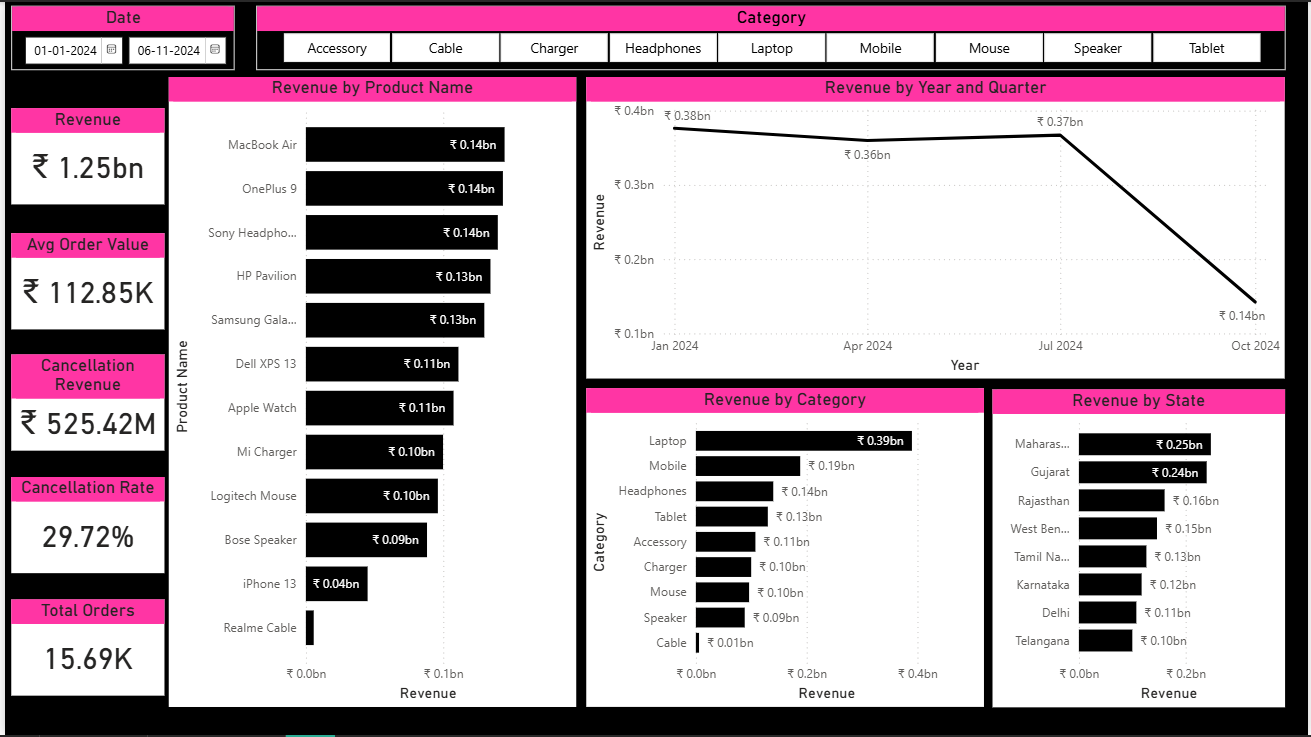

The dashboard page shown, as its layout file describes it:
{"tool":"powerbi","page":{"name":"Page 1","canvas":[1280,720],"ordinal":0},"visuals":[{"type":"shape","box":[0,0,1280.3,72.9],"z":0},{"type":"shape","box":[0,0,160.5,720.3],"z":1000},{"type":"barChart","fields":{"Category":["Products.Product Name"],"Y":["Key Measures.Revenue"]},"box":[160.7,73.6,400,618.4],"z":2000},{"type":"barChart","fields":{"Category":["Products.Category"],"Y":["Key Measures.Revenue"]},"box":[570.6,379.1,390.2,312.9],"z":3000},{"type":"lineChart","fields":{"Category":["Orders.Date and time of purchase.Variation.Date Hierarchy.Year","Orders.Date and time of purchase.Variation.Date Hierarchy.Quarter","Orders.Date and time of purchase.Variation.Date Hierarchy.Month","Orders.Date and time of purchase.Variation.Date Hierarchy.Day"],"Y":["Key Measures.Revenue"]},"box":[570.6,73.6,685.9,295.7],"z":4000},{"type":"barChart","fields":{"Category":["Customers.State"],"Y":["Key Measures.Revenue"]},"box":[969.3,380.4,287.1,311.7],"z":5000},{"type":"slicer","title":"Category","fields":{"Values":["Products.Category"]},"box":[246.3,3.7,1010.1,63.4],"z":6000},{"type":"card","title":"Revenue","fields":{"Values":["Key Measures.Revenue"]},"box":[6.2,104.5,150.5,94.5],"z":7000},{"type":"card","title":"Avg Order Value","fields":{"Values":["Key Measures.AOV"]},"box":[6.2,226.4,150.5,94.5],"z":8000},{"type":"card","title":"Cancellation Revenue","fields":{"Values":["Key Measures.Cancelled_rev"]},"box":[6.2,345.8,150.5,94.5],"z":9000},{"type":"card","title":"Cancellation Rate","fields":{"Values":["Key Measures.Cancellation Rate"]},"box":[6.2,466.5,150.5,94.5],"z":10000},{"type":"card","title":"Total Orders","fields":{"Values":["CountNonNull(Orders.OrderID)"]},"box":[6.2,585.9,150.5,94.5],"z":11000},{"type":"slicer","title":"Date","fields":{"Values":["Orders.Date and time of purchase"]},"box":[6.2,3.7,218.9,63.4],"z":12000}]}

Visuals, with their boxes in screenshot pixels (x1, y1, x2, y2), scaled from the page's 1280x720 canvas onto the 1311x737 screenshot:
shape: 0:0:1310:75
shape: 0:0:164:736
barChart - Products.Product Name x Key Measures.Revenue: 165:75:574:708
barChart - Products.Category x Key Measures.Revenue: 584:388:984:708
lineChart - Orders.Date and time of purchase.Variation.Date Hierarchy.Year x Orders.Date and time of purchase.Variation.Date Hierarchy.Quarter: 584:75:1287:378
barChart - Customers.State x Key Measures.Revenue: 993:389:1287:708
"Category" slicer: 252:4:1287:69
"Revenue" card: 6:107:160:204
"Avg Order Value" card: 6:232:160:328
"Cancellation Revenue" card: 6:354:160:451
"Cancellation Rate" card: 6:478:160:574
"Total Orders" card: 6:600:160:696
"Date" slicer: 6:4:231:69
